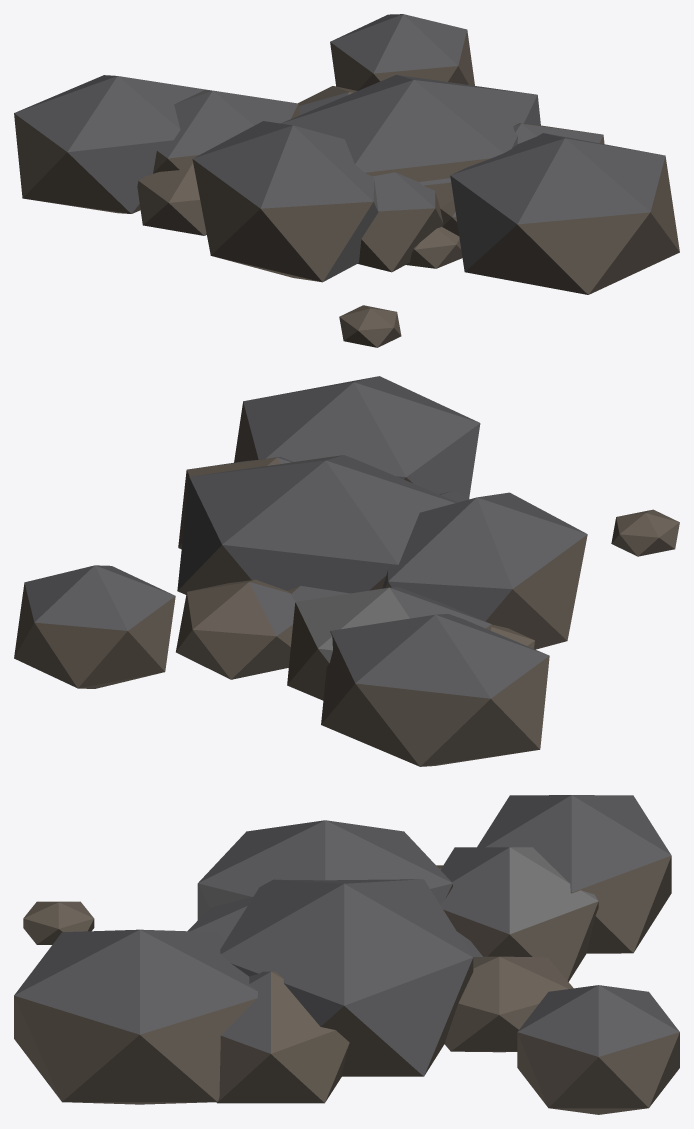
Rendered from PebbleClusters.fbx.
3 views of the same model, one above another, from view 1: azimuth 30°, elevation 25°; view 2: azimuth 150°, elevation 25°; view 3: azimuth 270°, elevation 25° (orthographic). The views are drawn at different scales.
Visible parts, largest first — view 1: PebbleCluster_01, PebbleCluster_03, PebbleCluster_02; view 2: PebbleCluster_01, PebbleCluster_03, PebbleCluster_02; view 3: PebbleCluster_01, PebbleCluster_03, PebbleCluster_02.
Boxes of the visible parts, x1,y1,x2,y2 form: PebbleCluster_01: (14,14,540,347); PebbleCluster_03: (137,86,679,294); PebbleCluster_02: (192,121,604,282); PebbleCluster_01: (14,455,679,766); PebbleCluster_03: (176,376,534,700); PebbleCluster_02: (178,456,587,649); PebbleCluster_01: (23,795,679,1114); PebbleCluster_03: (14,847,598,1104); PebbleCluster_02: (197,820,482,1103).
Bounding box in the file's own units: 0.943 × 0.3217 × 1.03.
1 material, 1 textured.
